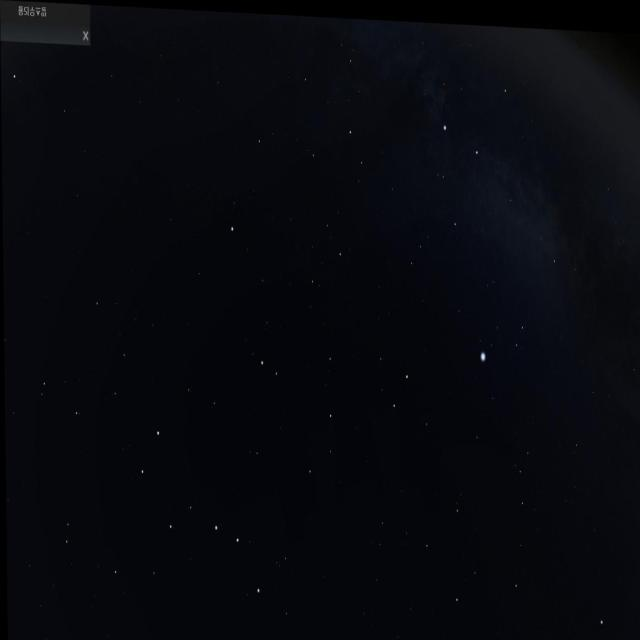cygnus: (432, 67, 562, 247)
lyra: (472, 293, 532, 372)
ursa_major: (130, 417, 270, 592)
